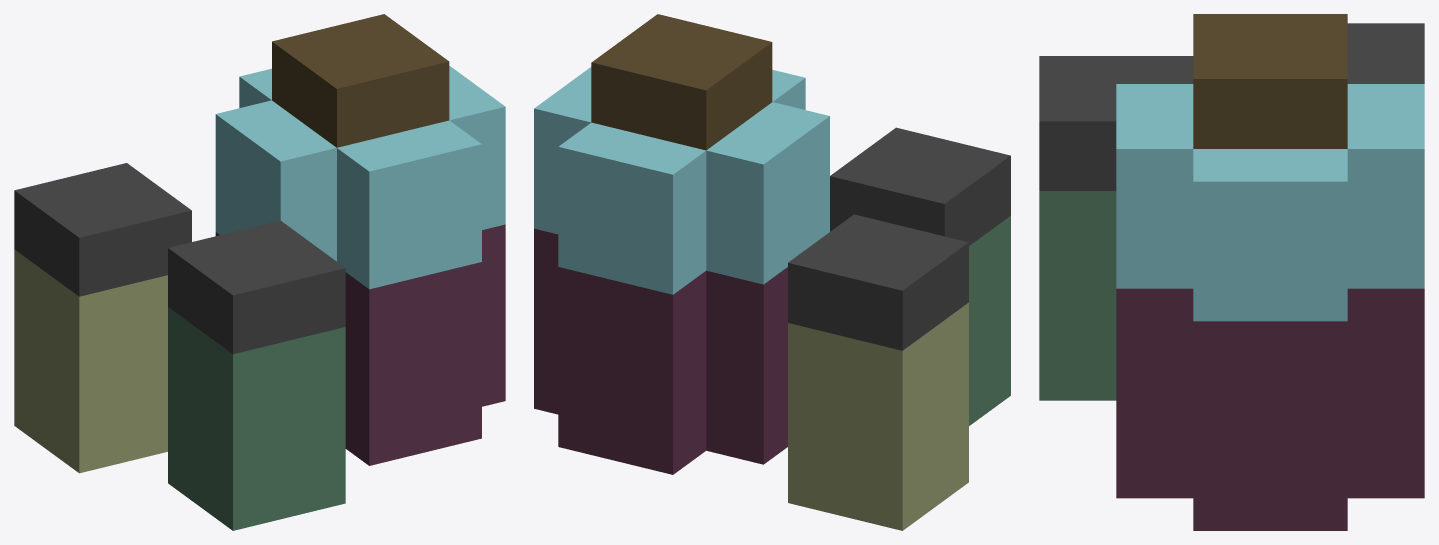
The model's file is Boat_Booth-8-Kitchen_MiscA.obj.
3 renders of one model, left to right at view 1: azimuth 30°, elevation 25°; view 2: azimuth 150°, elevation 25°; view 3: azimuth 270°, elevation 25°, orthographic. The views are drawn at different scales.
Visible parts, largest first — view 1: Kitchen_MiscA; view 2: Kitchen_MiscA; view 3: Kitchen_MiscA.
Boxes of the visible parts, x1=… form: Kitchen_MiscA: x1=14, y1=14, x2=505, y2=530; Kitchen_MiscA: x1=534, y1=14, x2=1010, y2=530; Kitchen_MiscA: x1=1039, y1=14, x2=1424, y2=530.
Bounding box in the file's own units: 0.14 × 0.12 × 0.1.
1 material, 1 textured.
